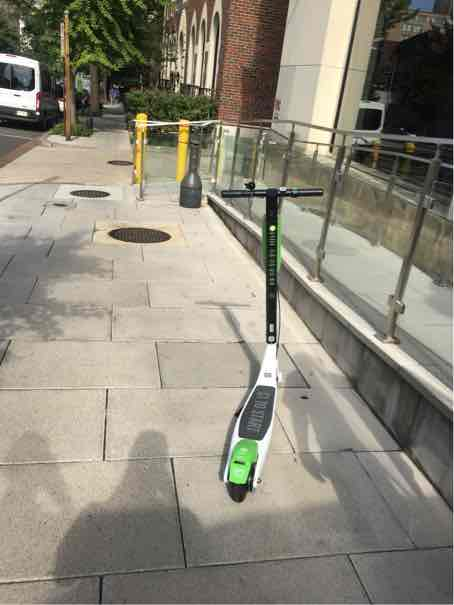scooter: (196, 187, 327, 507)
